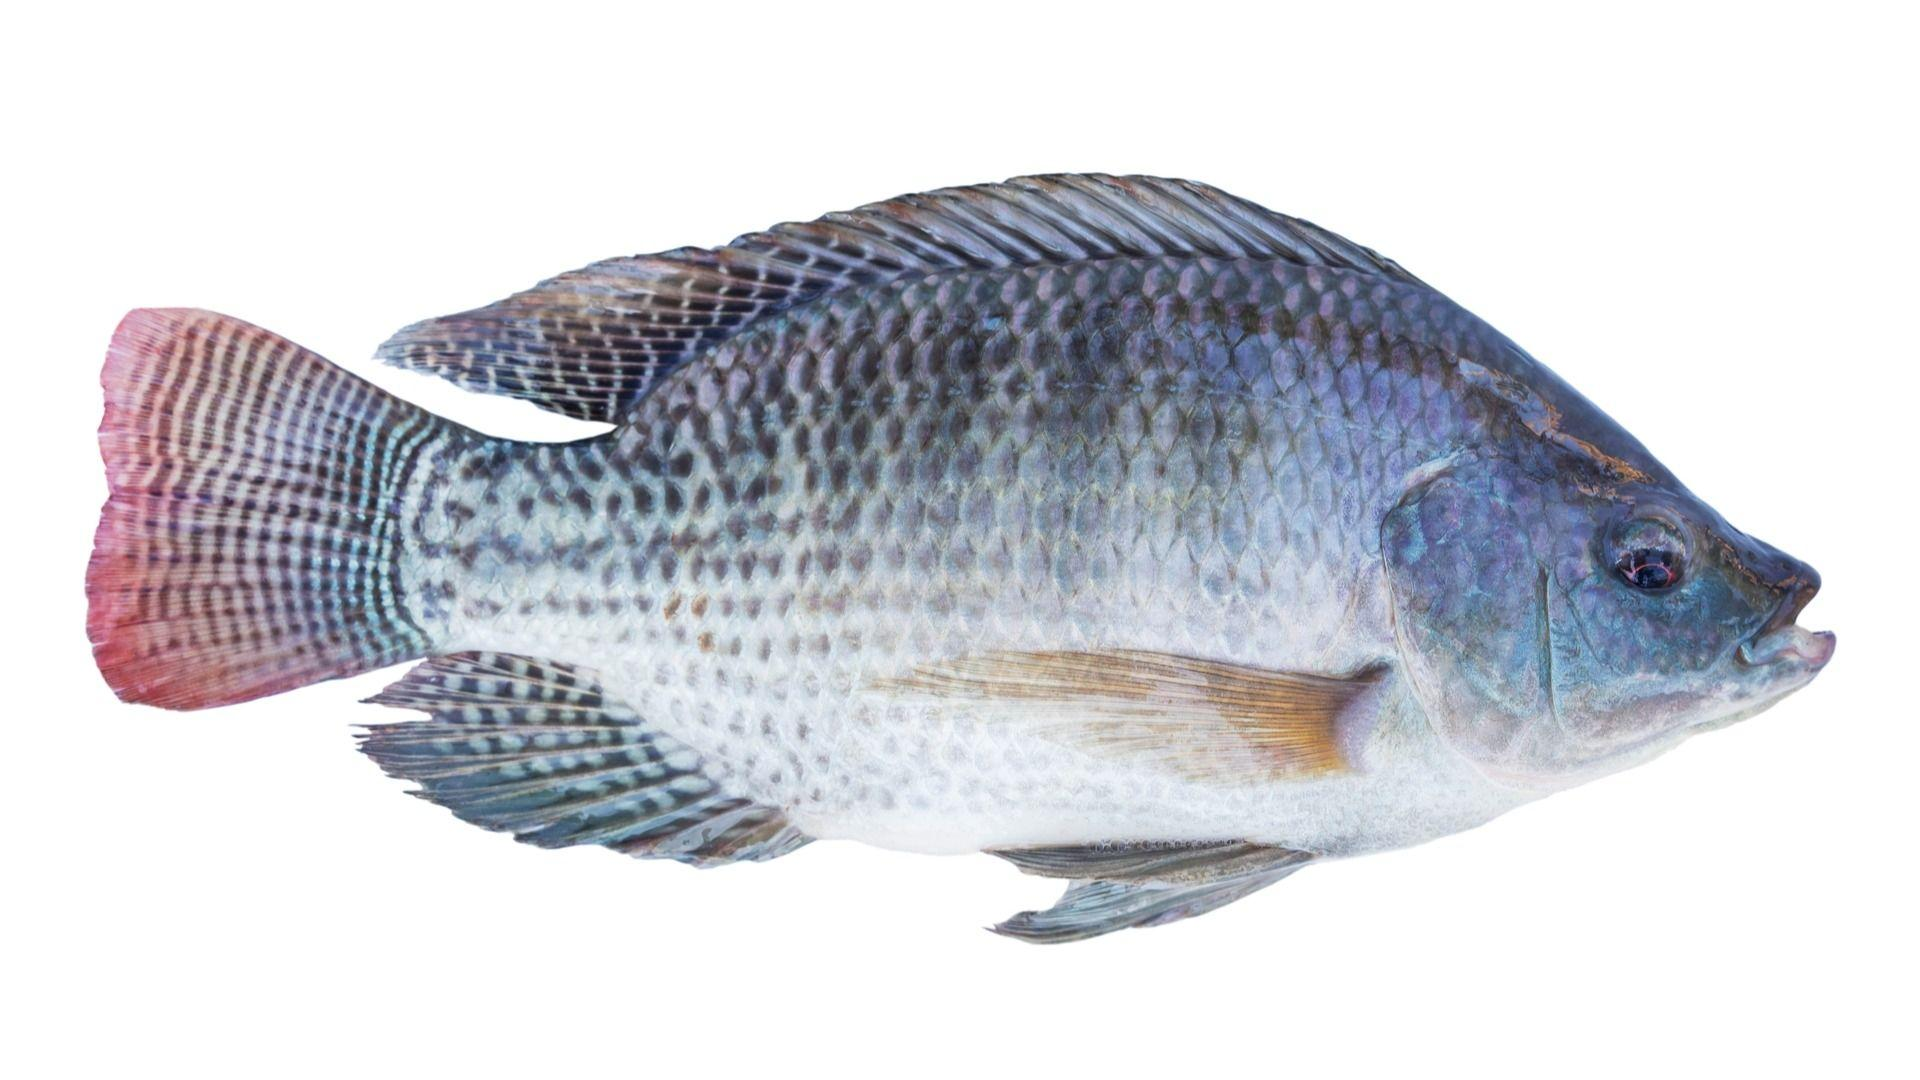Tilapia: (86, 165, 1842, 945)
